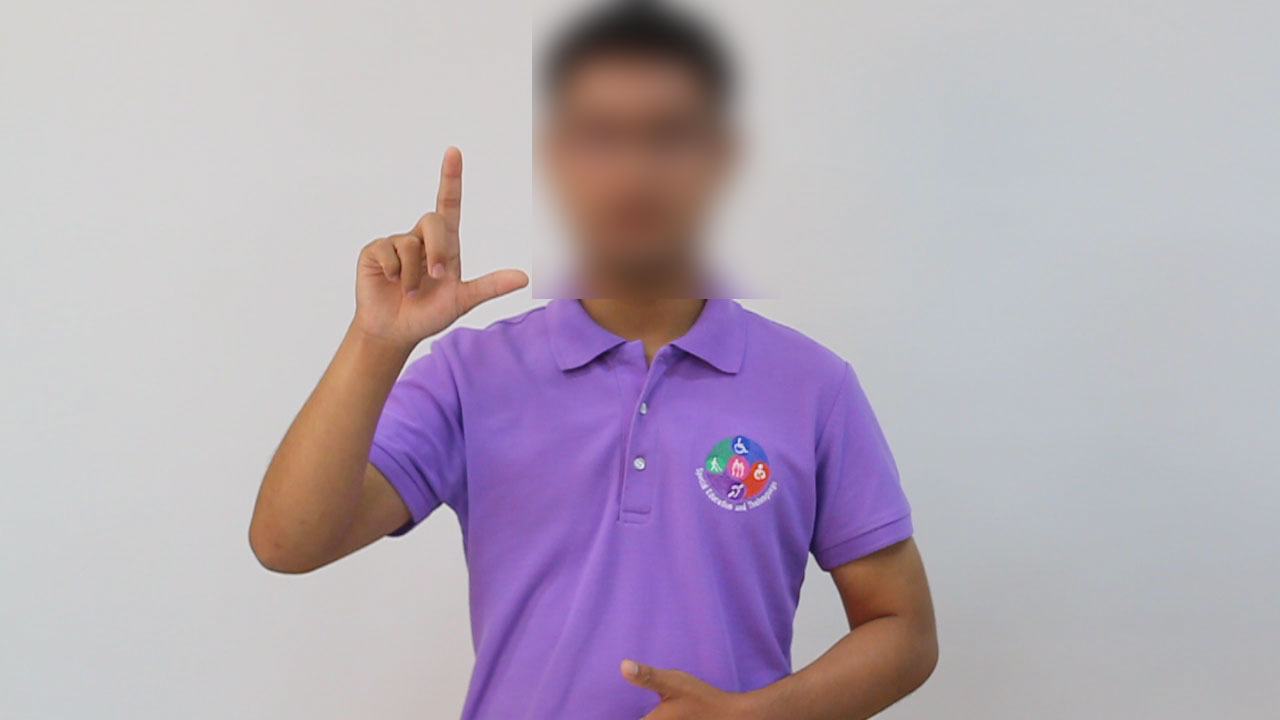lor: (338, 137, 534, 362)
